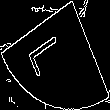L_NE: (33, 29, 77, 81)
